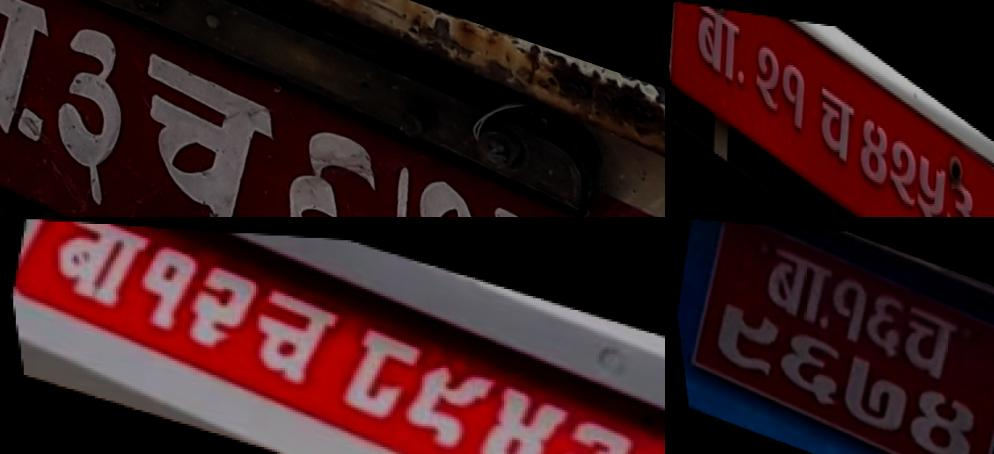1: (123, 236, 205, 333), (814, 262, 876, 346), (770, 46, 812, 144)
2: (171, 256, 262, 355), (879, 116, 923, 212), (745, 28, 786, 124)
3: (16, 2, 162, 217), (533, 401, 638, 454), (936, 154, 980, 217)
4: (460, 372, 568, 454), (892, 372, 982, 454), (850, 101, 893, 193)
5: (906, 134, 951, 217)
6: (236, 93, 415, 217), (762, 318, 850, 414), (850, 278, 912, 362)
7: (345, 138, 508, 217), (825, 344, 917, 440)
8: (325, 316, 424, 418)
9: (390, 345, 497, 450), (699, 293, 789, 386)
ba: (0, 0, 82, 155), (37, 219, 156, 313), (750, 236, 840, 333), (688, 3, 747, 94)
cha: (92, 28, 303, 217), (228, 275, 347, 387), (885, 295, 964, 387), (808, 69, 858, 168)
